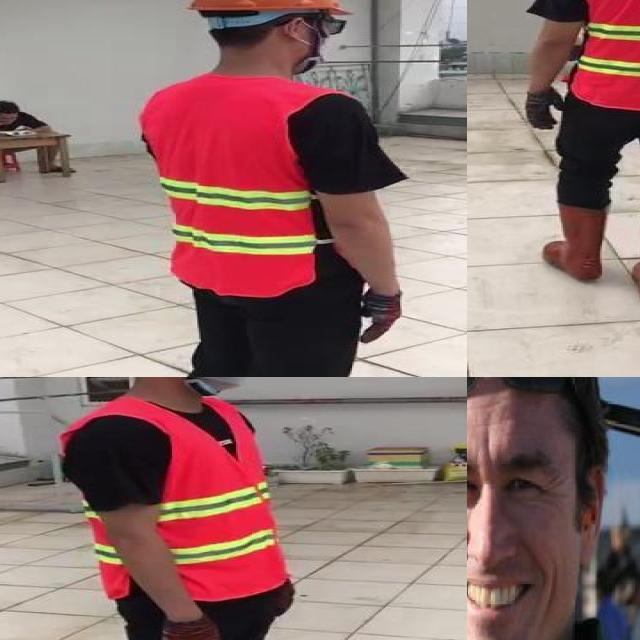No_Ear-Protection: (568, 459, 609, 574)
No_Glasses: (467, 428, 574, 514)
boots: (540, 203, 609, 284)
face_nomask: (467, 452, 567, 623)
glasses: (467, 377, 581, 409)
hand_glove: (357, 290, 402, 346), (524, 89, 570, 130), (154, 619, 216, 640)
head_helmet: (182, 0, 349, 24)
head_nohelmet: (467, 377, 596, 426)
person: (142, 0, 428, 377), (44, 377, 342, 640), (467, 377, 640, 640), (517, 0, 640, 309)
vest: (60, 397, 289, 599), (144, 74, 327, 296), (577, 0, 640, 113)
